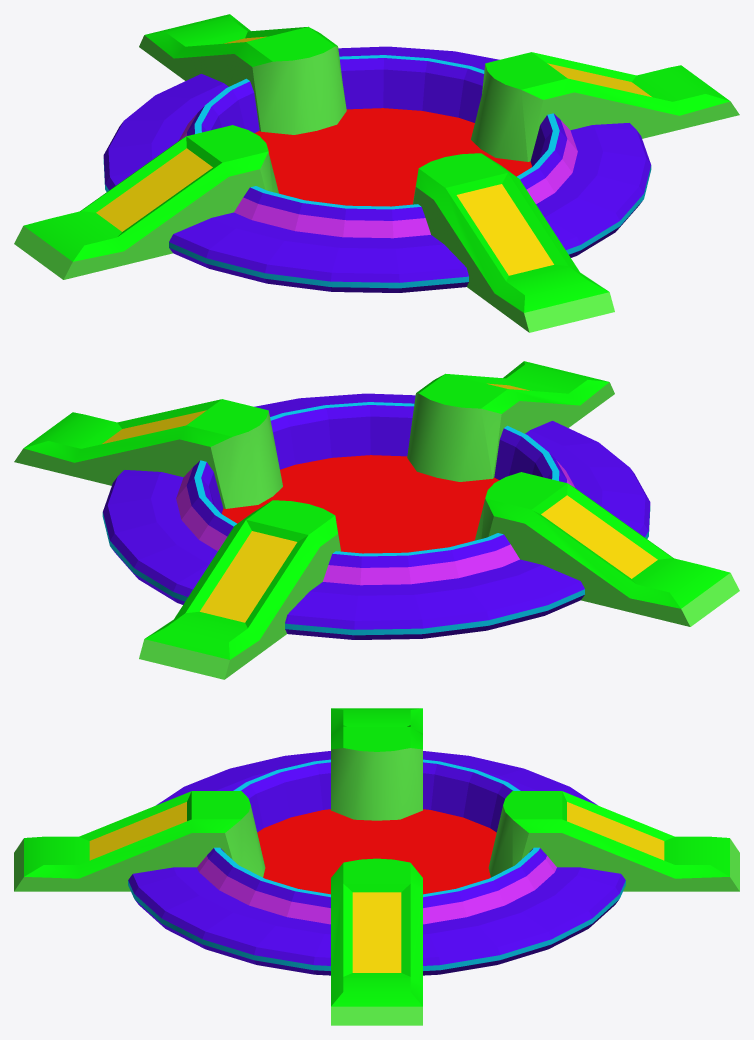
Rendered from Ability Pickup Pad.FBX.
3 renders of one model, top to bottom at view 1: azimuth 30°, elevation 25°; view 2: azimuth 150°, elevation 25°; view 3: azimuth 270°, elevation 25°, orthographic. The views are drawn at different scales.
Visible parts, largest first — view 1: Cylinder001, Box003, Box002, Box001, Box004; view 2: Cylinder001, Box004, Box002, Box001, Box003; view 3: Cylinder001, Box003, Box004, Box001, Box002.
Part boxes in pixels (x1=…): Cylinder001: x1=103, y1=46, x2=651, y2=292; Box003: x1=412, y1=153, x2=614, y2=332; Box002: x1=14, y1=125, x2=278, y2=279; Box001: x1=471, y1=52, x2=739, y2=161; Box004: x1=139, y1=14, x2=346, y2=134; Cylinder001: x1=102, y1=393, x2=650, y2=639; Box004: x1=139, y1=500, x2=341, y2=679; Box002: x1=475, y1=472, x2=739, y2=626; Box001: x1=14, y1=399, x2=282, y2=508; Box003: x1=407, y1=361, x2=614, y2=481; Cylinder001: x1=128, y1=751, x2=625, y2=975; Box003: x1=14, y1=791, x2=265, y2=891; Box004: x1=488, y1=791, x2=739, y2=891; Box001: x1=331, y1=858, x2=422, y2=1025; Box002: x1=331, y1=708, x2=422, y2=820.
Size of the model in its own units: 11.2 by 1.14 by 11.2.
